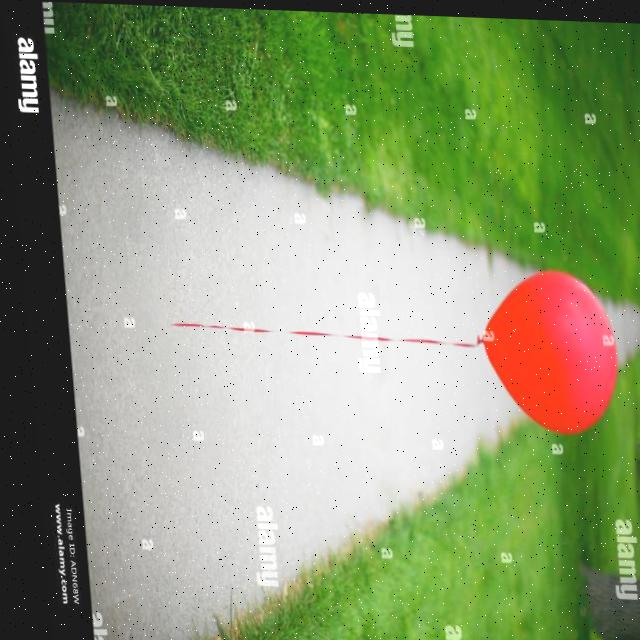balloon: (460, 255, 622, 440)
